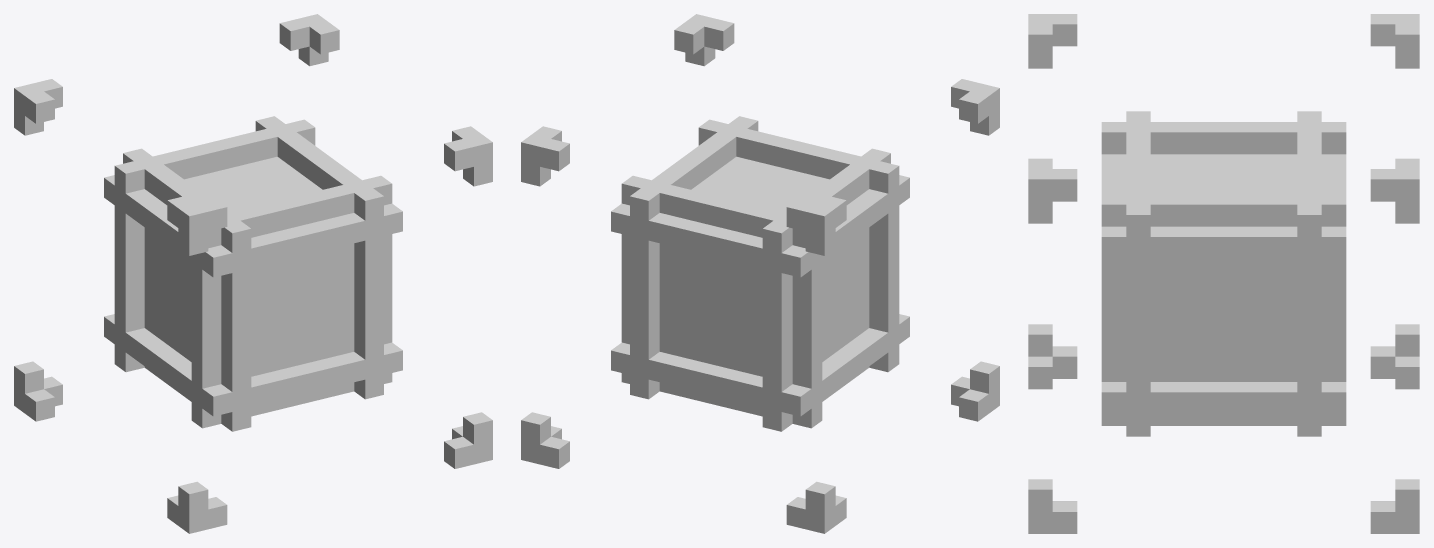
Rendered from ml_scalar_value_1.obj.
3 views of the same model, side by side, from view 1: azimuth 30°, elevation 25°; view 2: azimuth 150°, elevation 25°; view 3: azimuth 270°, elevation 25° (orthographic). The views are drawn at different scales.
Visible parts, largest first — view 1: ml_scalar_value_1; view 2: ml_scalar_value_1; view 3: ml_scalar_value_1.
Boxes of the visible parts, x1=… form: ml_scalar_value_1: x1=14, y1=14, x2=492, y2=533; ml_scalar_value_1: x1=521, y1=14, x2=999, y2=533; ml_scalar_value_1: x1=1028, y1=14, x2=1419, y2=533.
Size of the model in its own units: 0.8 by 0.8 by 0.8.
